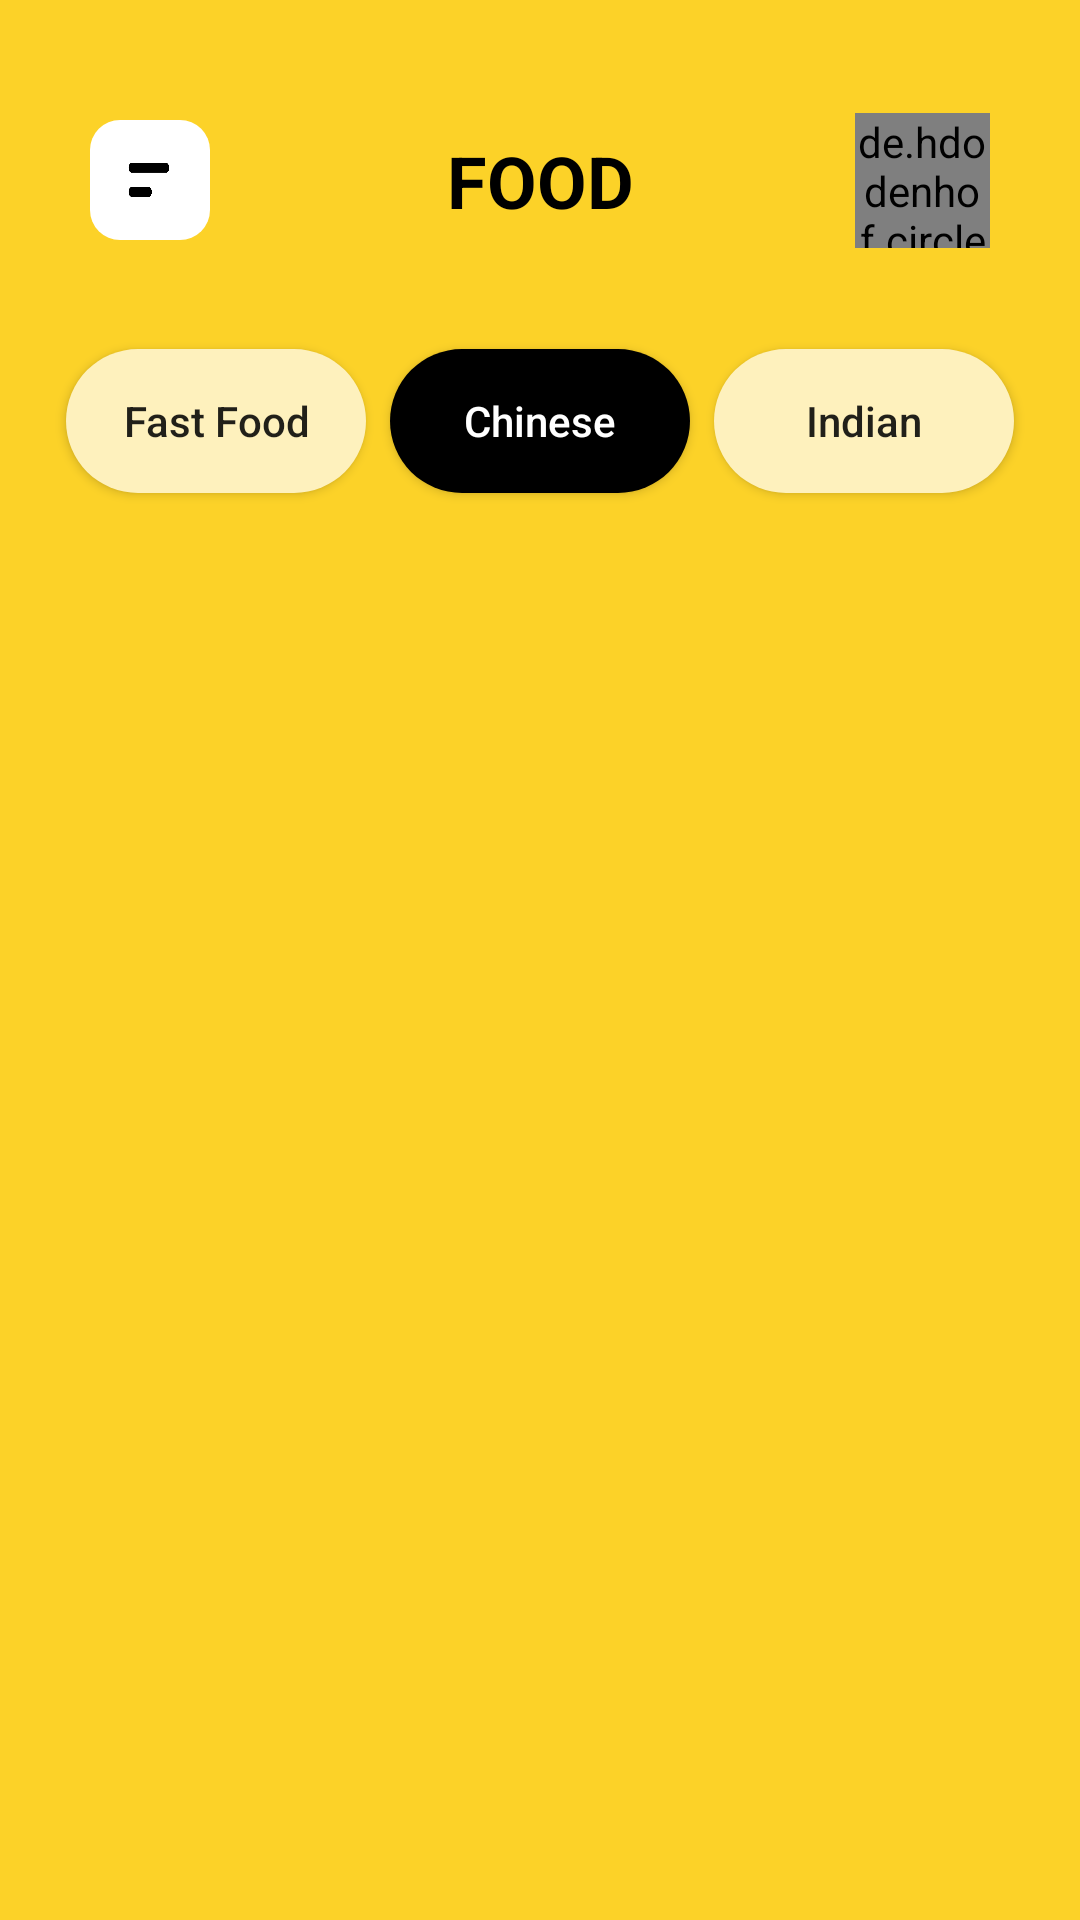

Icon click points for this 1080 x 1920 phone screenshot, format point (x, y):
menu: point (150, 180)
